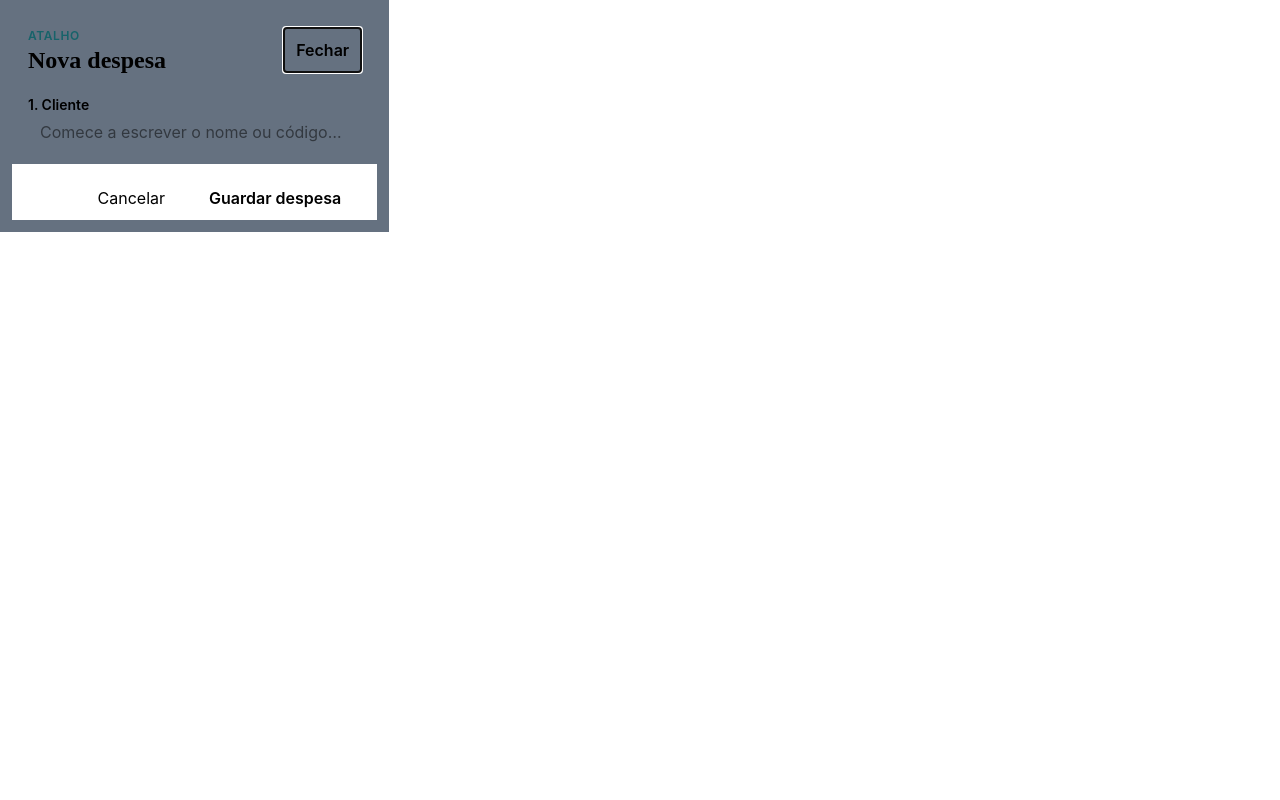
fecha as sugestões com Escape e ao clicar fora, sem fechar a despesa
Type "02-01" into the dropdown named "Cliente e vertente" at (195, 132), box [28,120,361,144]
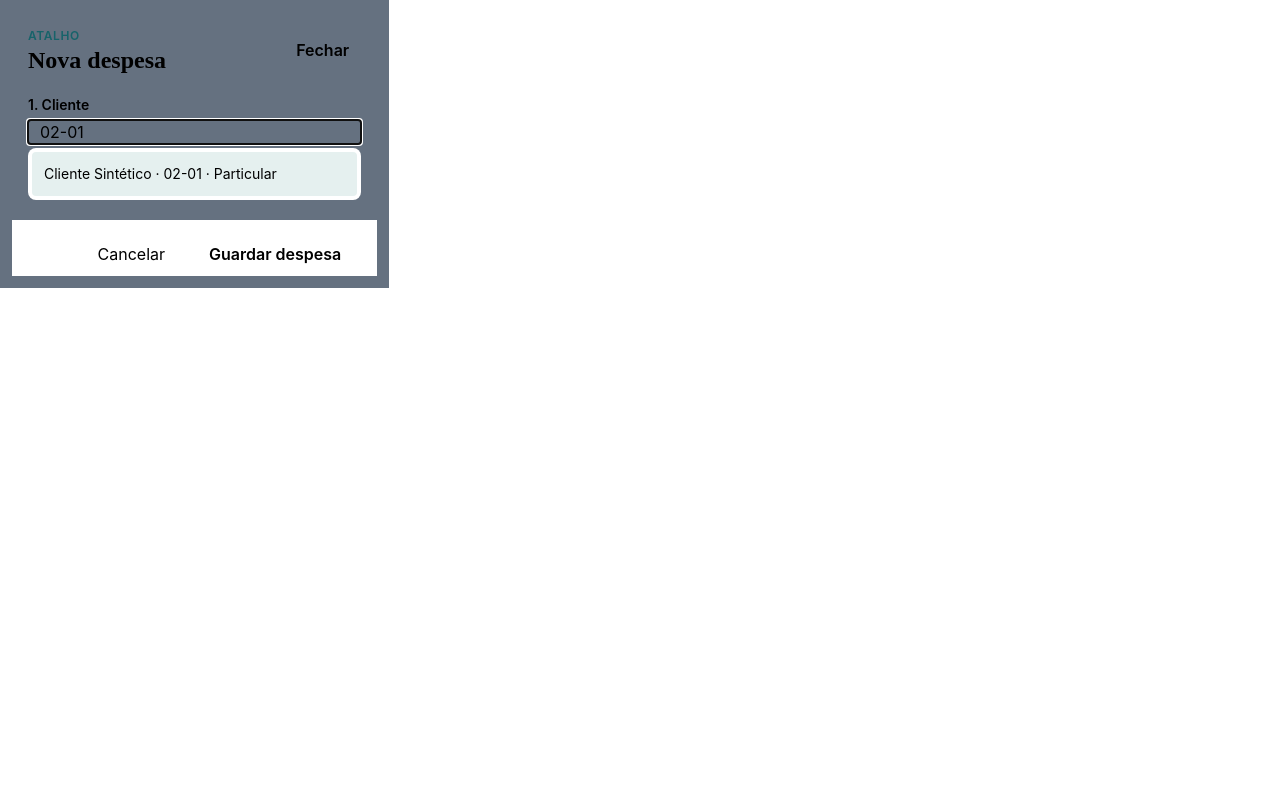
Press Escape
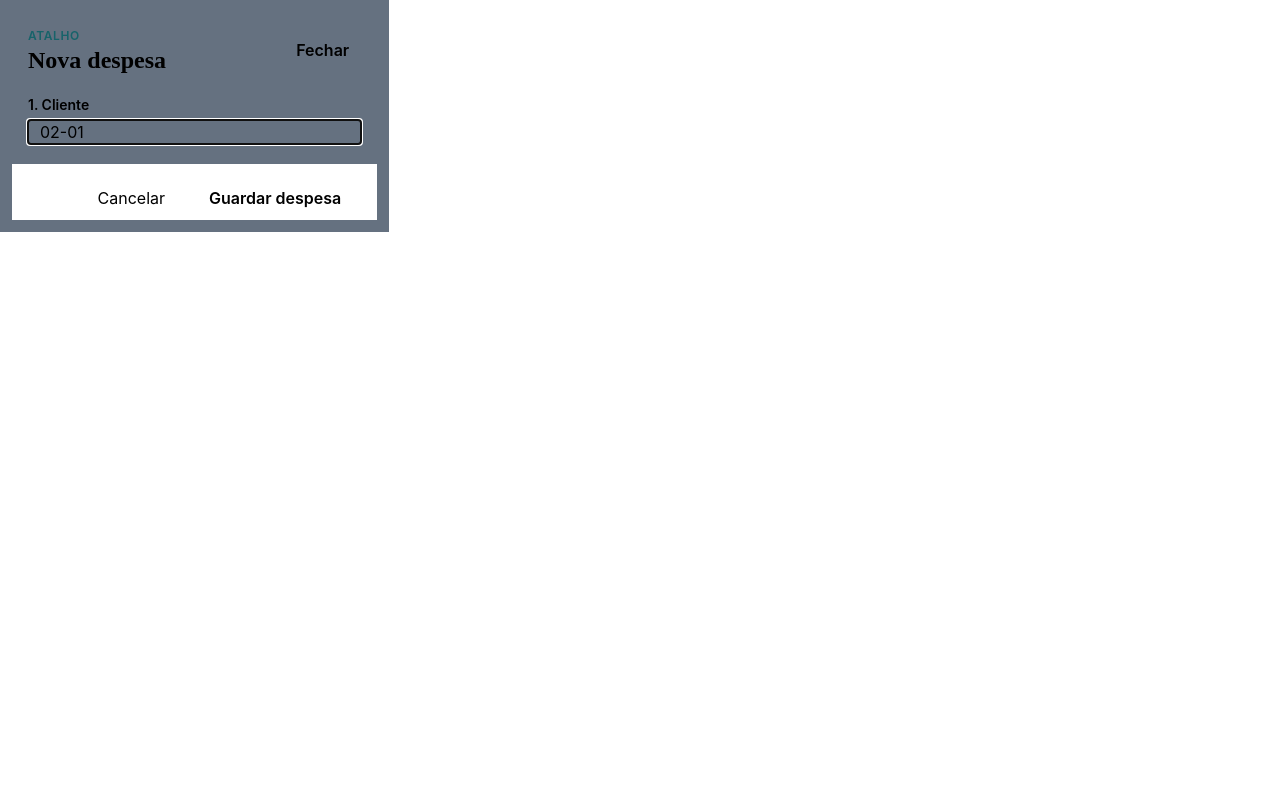
Check: the list is gone
Click the dropdown named "Cliente e vertente" at (195, 132), box [28,120,361,144]
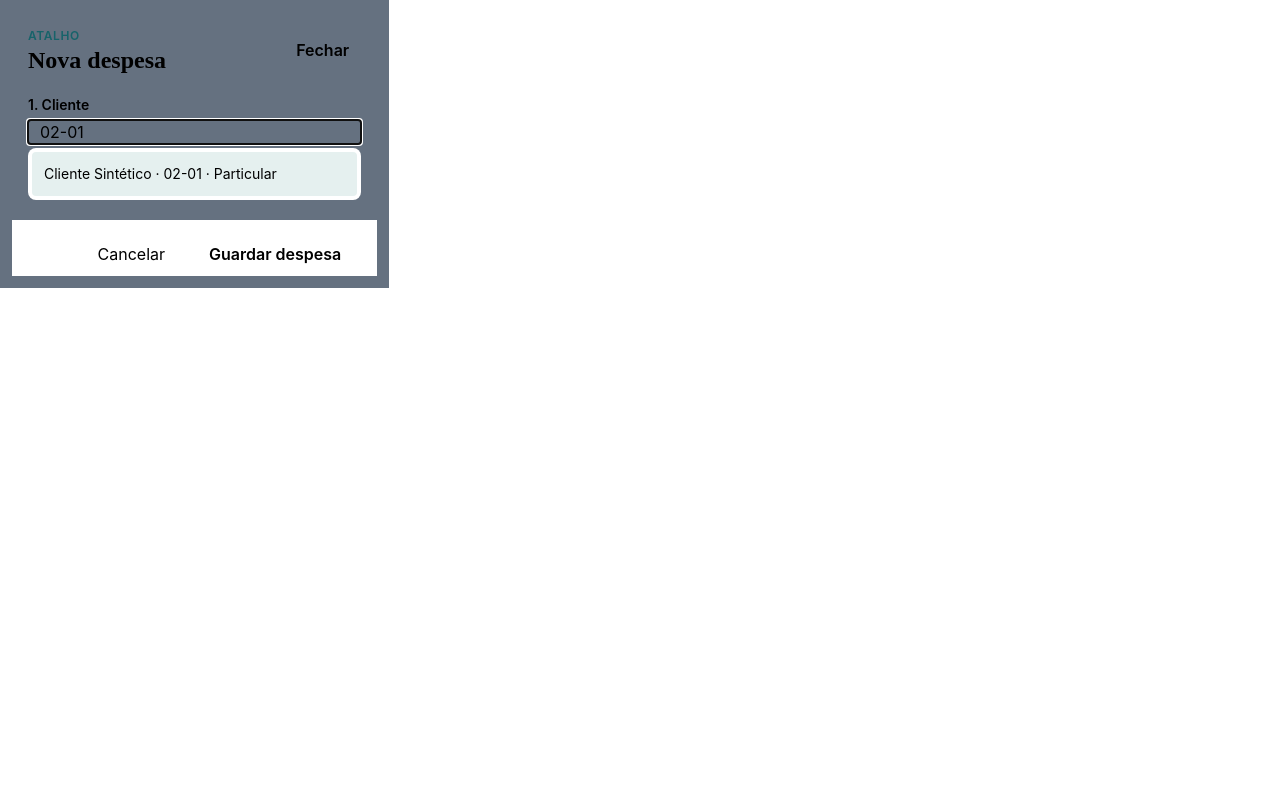
Check: the list is shown, box [28,148,361,200]
Click the heading "Nova despesa" at (97, 60), box [28,44,166,76]
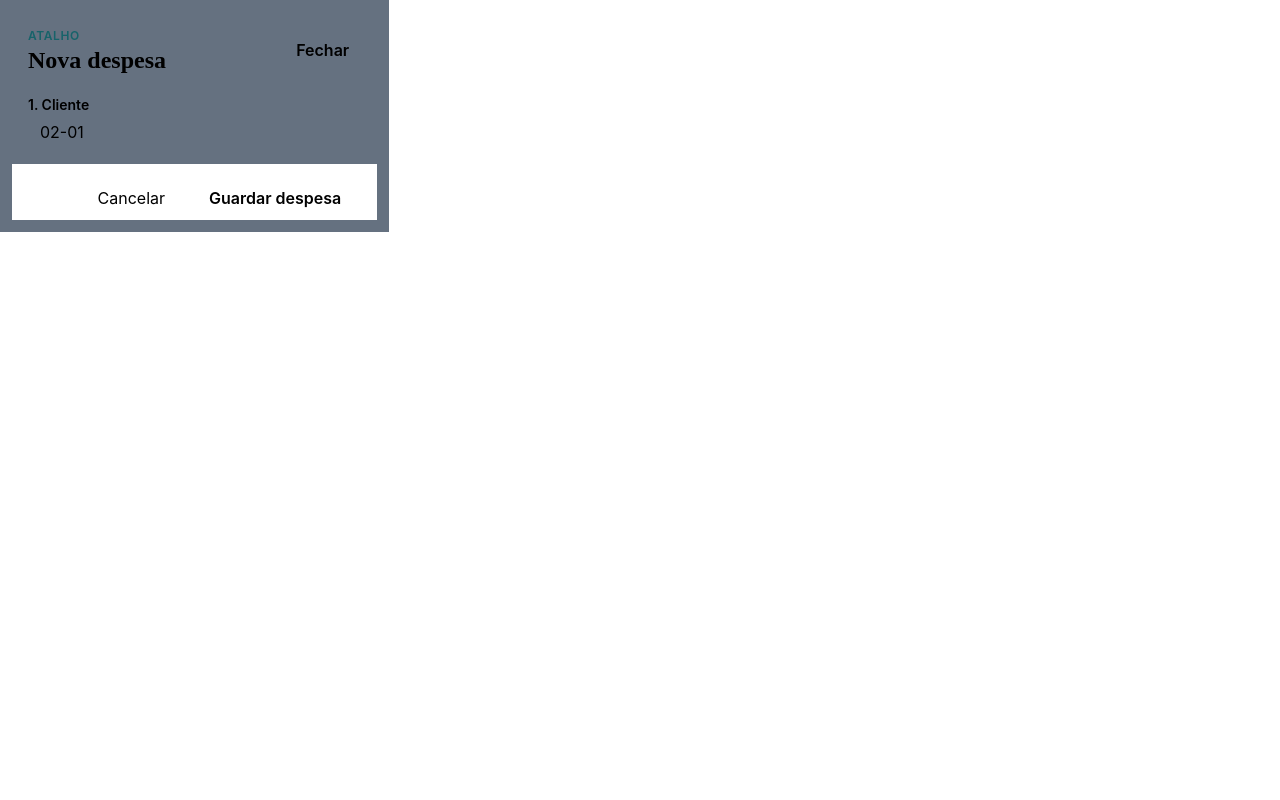
Check: the list is gone
